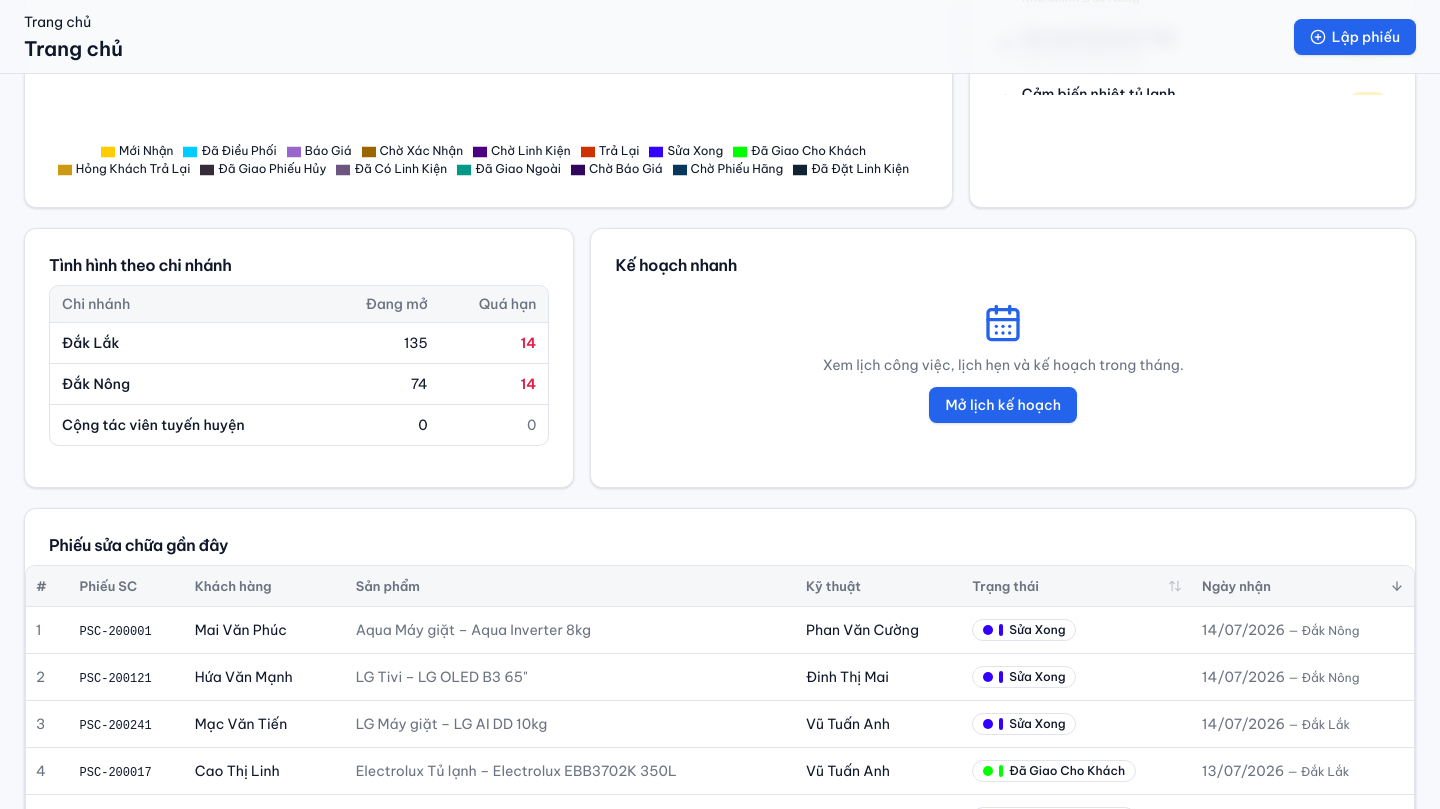
Test: DashboardPage › renders one view and opens the plan calendar in one click
(page scrolled)
Check: the text "Kế hoạch nhanh" is shown, box [615,255,737,275]
Click the button "Mở lịch kế hoạch" at (1003, 405), box [929,387,1077,423]
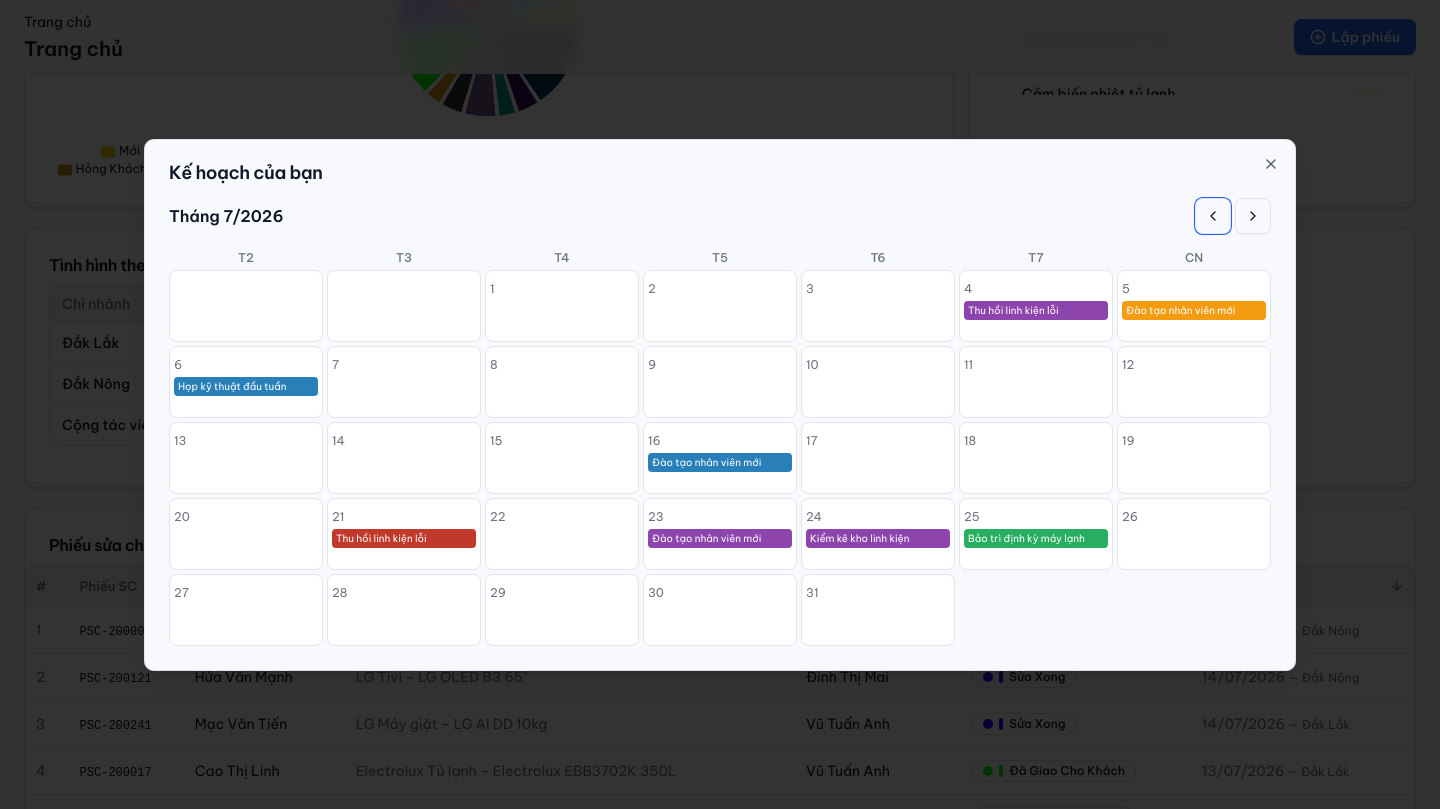
Check: the dialog "Kế hoạch của bạn" is shown, box [144,139,1296,671]
Check: the heading "Tháng 7/2026" is shown, box [169,204,284,228]
